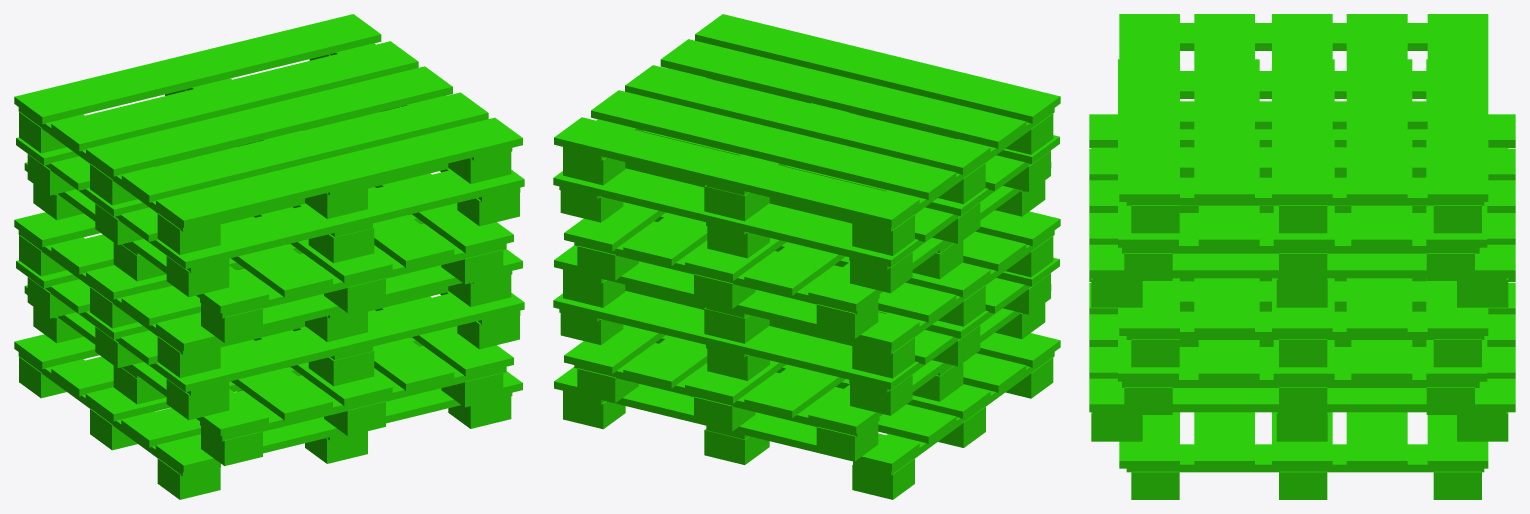
File: Pallet_Pile_01_Lod0.fbx
3 renders of one model, left to right at view 1: azimuth 30°, elevation 25°; view 2: azimuth 150°, elevation 25°; view 3: azimuth 270°, elevation 25°, orthographic. The views are drawn at different scales.
Visible parts, largest first — view 1: Pallet_Pile_01_Lod0; view 2: Pallet_Pile_01_Lod0; view 3: Pallet_Pile_01_Lod0.
Part boxes in pixels (x1,y1,x2,y2): Pallet_Pile_01_Lod0: (14,14,524,499); Pallet_Pile_01_Lod0: (553,14,1060,499); Pallet_Pile_01_Lod0: (1089,14,1515,499).
Bounding box in the file's own units: 140 × 111 × 139.
